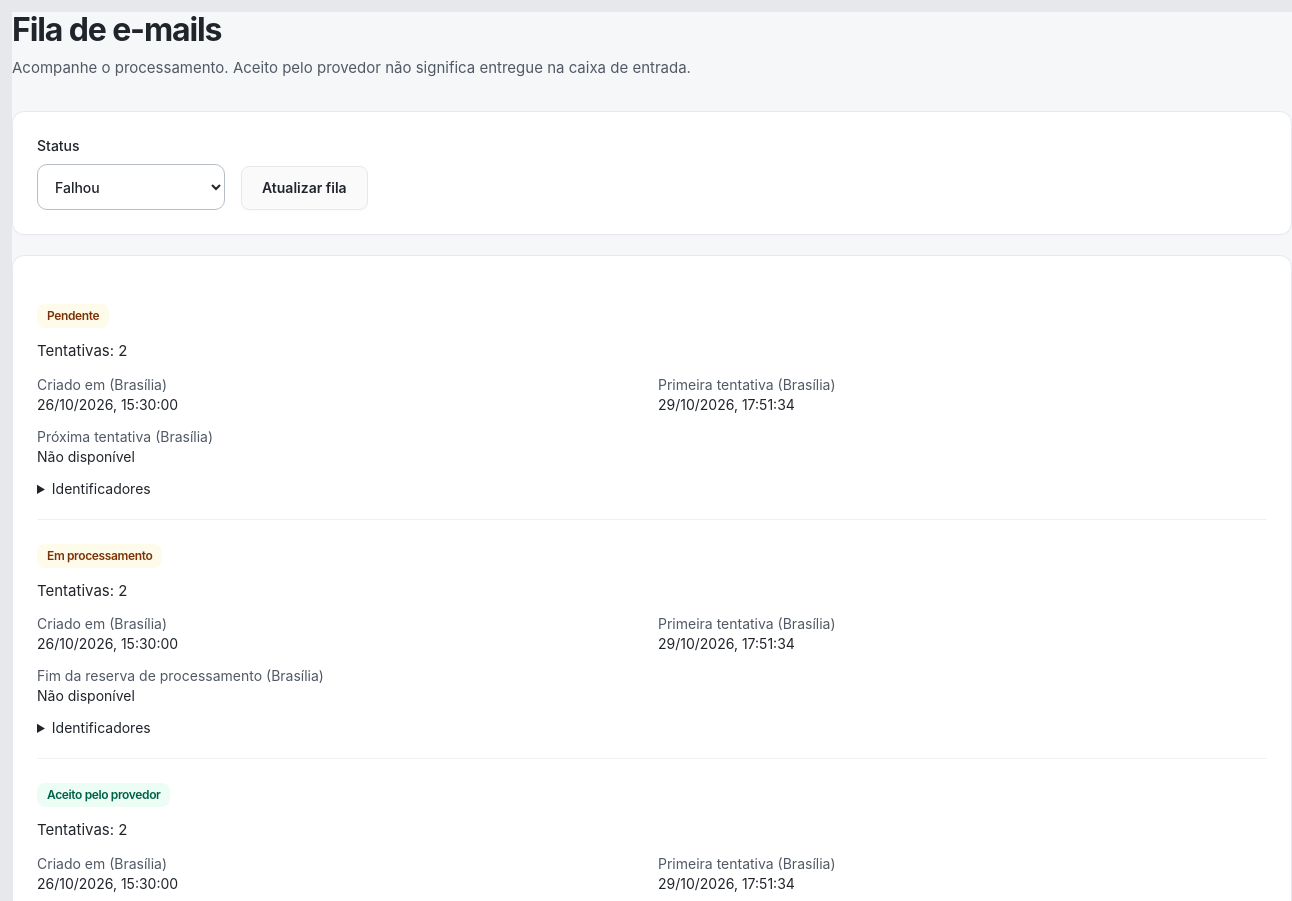
Scenario: mostra status, classificação e datas sem expor conteúdo privado
Expected: the heading "Pendente" is shown, 37,304 -> 109,328
Expected: the heading "Em processamento" is shown, 37,544 -> 162,568
Click the heading "Identificadores" below "Pendente": x=101, y=488 52,480 -> 151,497
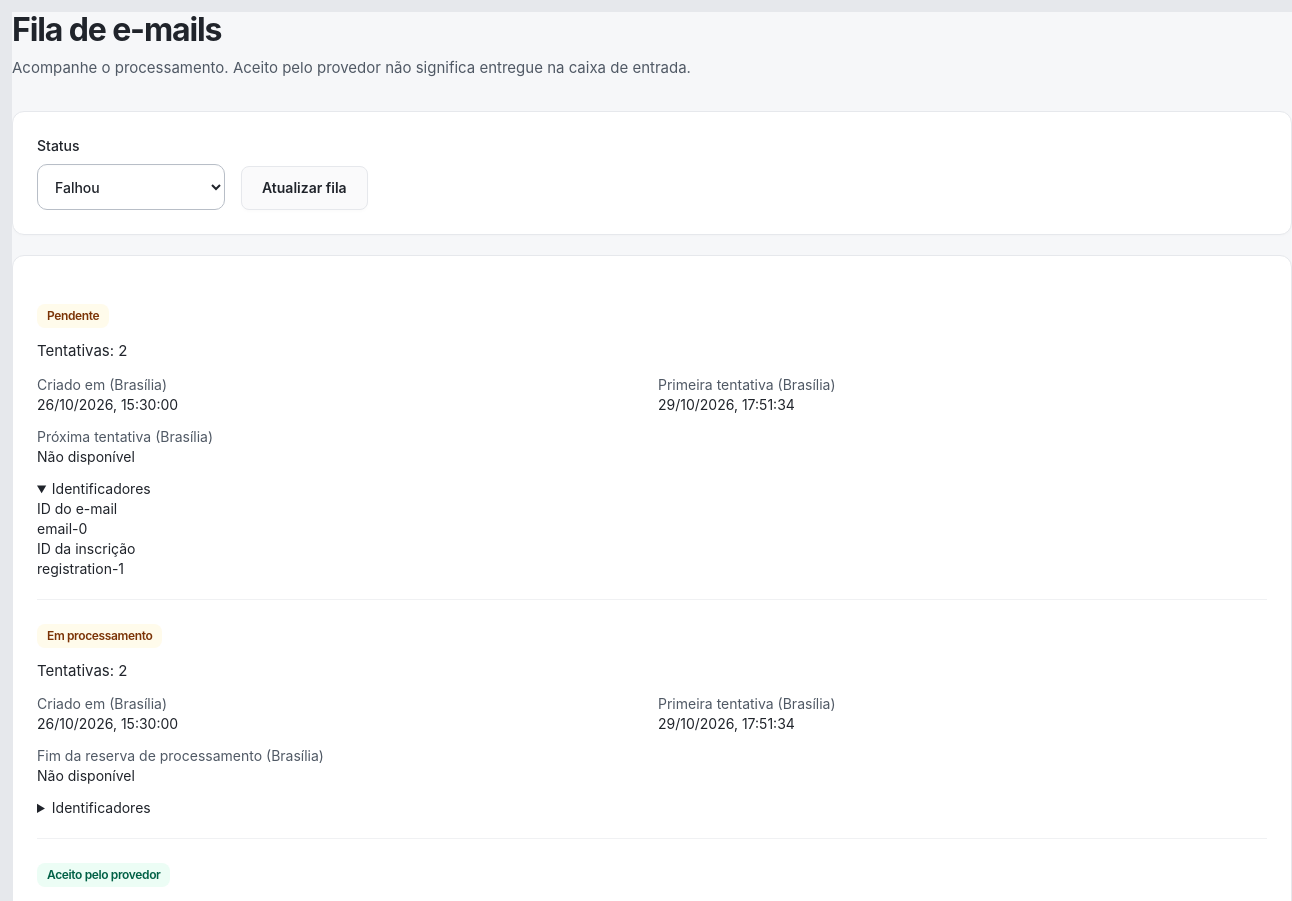
Expected: the text "registration-1" is shown 5 times
